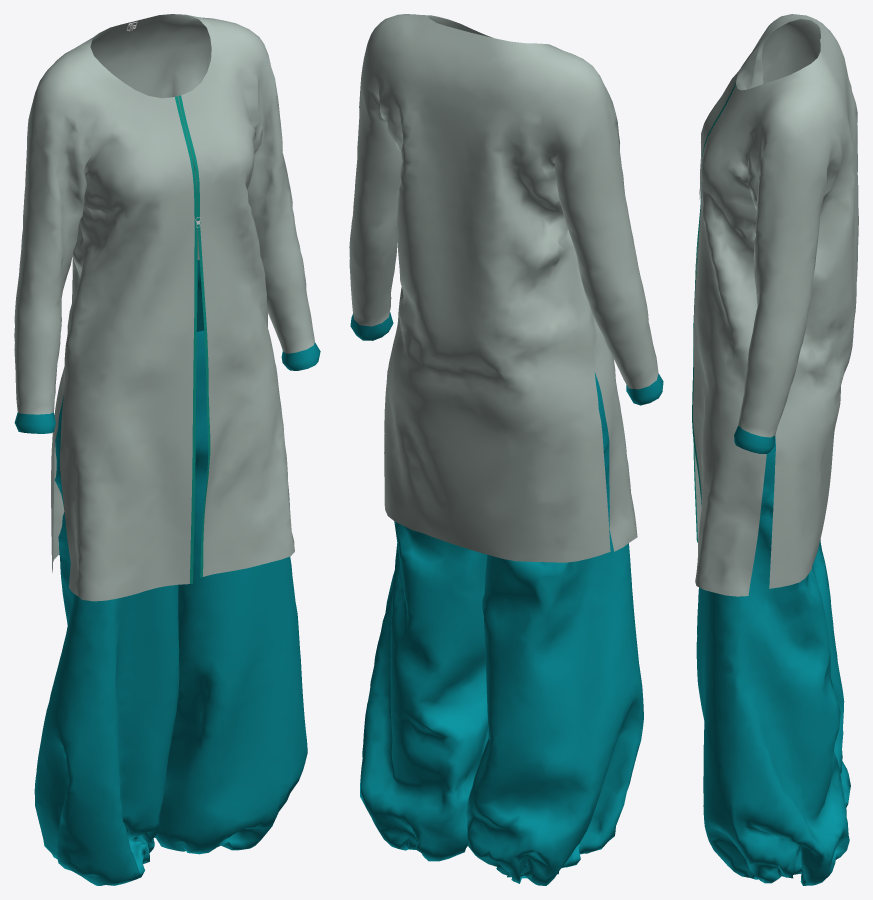
3 views of the same model, side by side, from view 1: azimuth 30°, elevation 25°; view 2: azimuth 150°, elevation 25°; view 3: azimuth 270°, elevation 25° (orthographic). The views are drawn at different scales.
Visible parts, largest first — view 1: Object_4, Object_2, Object_3, Object_5; view 2: Object_4, Object_2, Object_5; view 3: Object_4, Object_2, Object_3, Object_5.
Part boxes in pixels (<box>): Object_4: <box>14,14,314,601</box>; Object_2: <box>34,260,307,885</box>; Object_3: <box>175,95,210,583</box>; Object_5: <box>14,342,320,433</box>; Object_4: <box>349,14,658,562</box>; Object_2: <box>360,372,643,885</box>; Object_5: <box>350,312,663,405</box>; Object_4: <box>693,14,858,596</box>; Object_2: <box>696,438,850,885</box>; Object_3: <box>692,82,735,542</box>; Object_5: <box>734,425,775,453</box>.
Bounding box in the file's own units: 535 × 1399 × 261.
